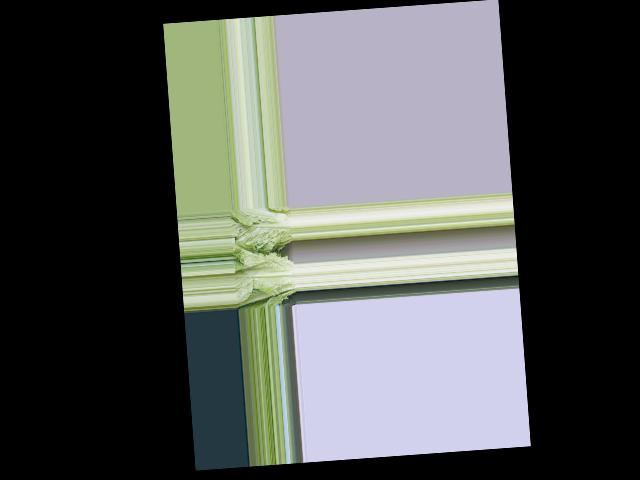lettuce: (233, 208, 293, 251)
